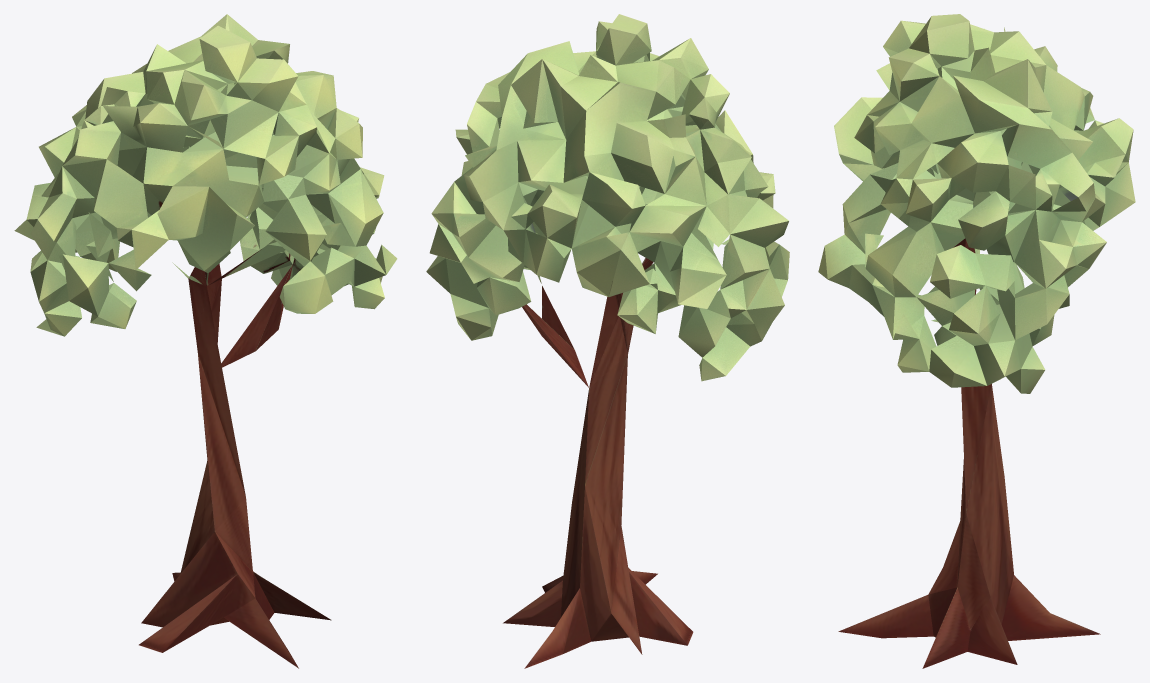
File: maple.glb
3 views of the same model, side by side, from view 1: azimuth 30°, elevation 25°; view 2: azimuth 150°, elevation 25°; view 3: azimuth 270°, elevation 25° (orthographic).
Bounding box in the file's own units: 1.14 × 1.88 × 0.8944.
Materials: 1 (1 with a texture image).
